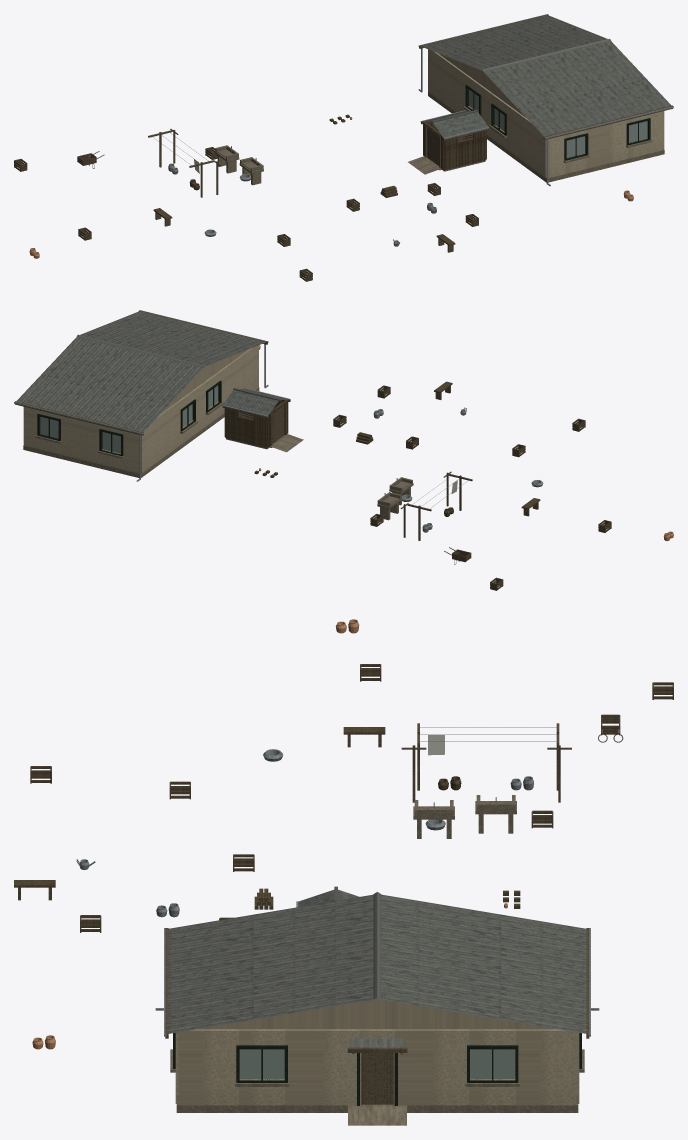
3 renders of one model, top to bottom at view 1: azimuth 30°, elevation 25°; view 2: azimuth 150°, elevation 25°; view 3: azimuth 270°, elevation 25°, orthographic. The views are drawn at different scales.
Parts seen in each view (by area): view 1: H19_CHAPAS_ONDULADAS, H19_FUNDOS, H19_LATERAIS, H19_ANEXO_EXISTENTE_LATERAL, H19_VIDROS_RECUADOS, H19_FUNDACAO, H19_CAIXILHOS, H19_ANEXO_EXISTENTE_COBERTURA, H19_OITOES, H19_ANEXO_EXISTENTE_MATA_JUNTAS, H19_BEIRAIS, H19_CUMEEIRA (+1 smaller); view 2: H19_CHAPAS_ONDULADAS, H19_FUNDOS, H19_LATERAIS, H19_ANEXO_EXISTENTE_LATERAL, H19_VIDROS_RECUADOS, H19_FUNDACAO, H19_CAIXILHOS, H19_ANEXO_EXISTENTE_COBERTURA, H19_OITOES, H19_ANEXO_EXISTENTE_MATA_JUNTAS, H19_BEIRAIS; view 3: H19_CHAPAS_ONDULADAS, H19_FACHADA, H19_OITOES, H19_FUNDACAO, H19_VIDROS_RECUADOS, H19_PORTA_FOLHA, H19_CAIXILHOS, H19_RAMPA, H19_CUMEEIRA, H19_BEIRAIS.
Part boxes in pixels (x1=…): H19_CHAPAS_ONDULADAS: x1=421, y1=15, x2=671, y2=136; H19_FUNDOS: x1=428, y1=49, x2=546, y2=177; H19_LATERAIS: x1=548, y1=111, x2=663, y2=177; H19_ANEXO_EXISTENTE_LATERAL: x1=426, y1=122, x2=486, y2=169; H19_VIDROS_RECUADOS: x1=469, y1=89, x2=647, y2=157; H19_FUNDACAO: x1=428, y1=92, x2=664, y2=182; H19_CAIXILHOS: x1=465, y1=85, x2=650, y2=160; H19_ANEXO_EXISTENTE_COBERTURA: x1=422, y1=110, x2=488, y2=137; H19_OITOES: x1=438, y1=53, x2=525, y2=117; H19_ANEXO_EXISTENTE_MATA_JUNTAS: x1=423, y1=123, x2=485, y2=169; H19_BEIRAIS: x1=419, y1=14, x2=673, y2=139; H19_CUMEEIRA: x1=482, y1=38, x2=610, y2=71; H19_CHAPAS_ONDULADAS: x1=16, y1=311, x2=265, y2=432; H19_FUNDOS: x1=141, y1=345, x2=258, y2=473; H19_LATERAIS: x1=24, y1=407, x2=139, y2=473; H19_ANEXO_EXISTENTE_LATERAL: x1=225, y1=399, x2=287, y2=447; H19_VIDROS_RECUADOS: x1=40, y1=385, x2=218, y2=453; H19_FUNDACAO: x1=23, y1=387, x2=259, y2=477; H19_CAIXILHOS: x1=37, y1=380, x2=221, y2=456; H19_ANEXO_EXISTENTE_COBERTURA: x1=223, y1=388, x2=289, y2=415; H19_OITOES: x1=161, y1=349, x2=248, y2=413; H19_ANEXO_EXISTENTE_MATA_JUNTAS: x1=226, y1=401, x2=288, y2=447; H19_BEIRAIS: x1=15, y1=310, x2=267, y2=435; H19_CHAPAS_ONDULADAS: x1=167, y1=894, x2=587, y2=1033; H19_FACHADA: x1=178, y1=1029, x2=575, y2=1105; H19_OITOES: x1=197, y1=999, x2=557, y2=1029; H19_FUNDACAO: x1=176, y1=1049, x2=578, y2=1112; H19_VIDROS_RECUADOS: x1=240, y1=1049, x2=514, y2=1079; H19_PORTA_FOLHA: x1=361, y1=1053, x2=393, y2=1104; H19_CAIXILHOS: x1=173, y1=1033, x2=581, y2=1082; H19_RAMPA: x1=348, y1=1106, x2=406, y2=1125; H19_CUMEEIRA: x1=373, y1=892, x2=381, y2=999; H19_BEIRAIS: x1=165, y1=928, x2=589, y2=1038.
Size of the model in its own units: 37.73 by 4.28 by 21.32.
12 materials, 9 textured.
